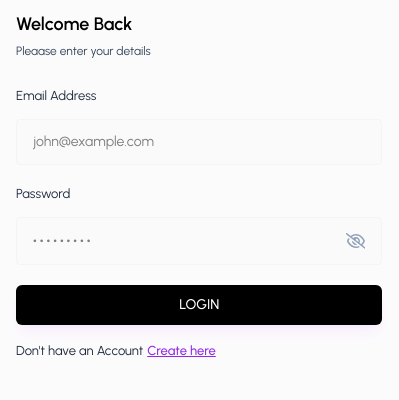
Login component › shows validation message for invalid email
The image size is (399, 400).
Step 1. Type "invalid-email" into the field with placeholder "john@example.com" → (199, 142), box top-left (33, 132), bottom-right (365, 152)
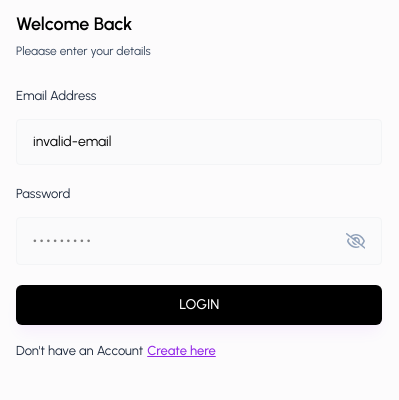
Step 2. Type "12345678" into the password field with placeholder "•••••••••" → (183, 241), box top-left (33, 230), bottom-right (334, 252)
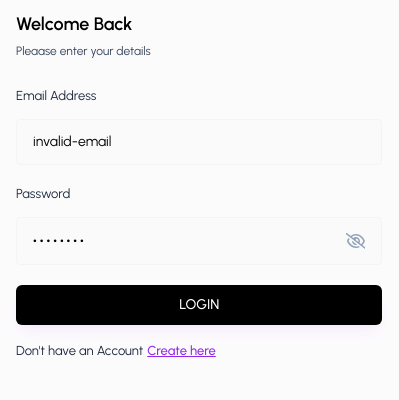
Step 3. Click the button "LOGIN" → (199, 305), box top-left (16, 285), bottom-right (382, 325)
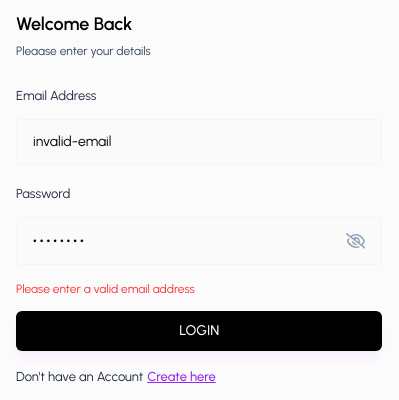
Expected: the text "Please enter a valid email address" is shown, top-left (16, 282), bottom-right (195, 296)
